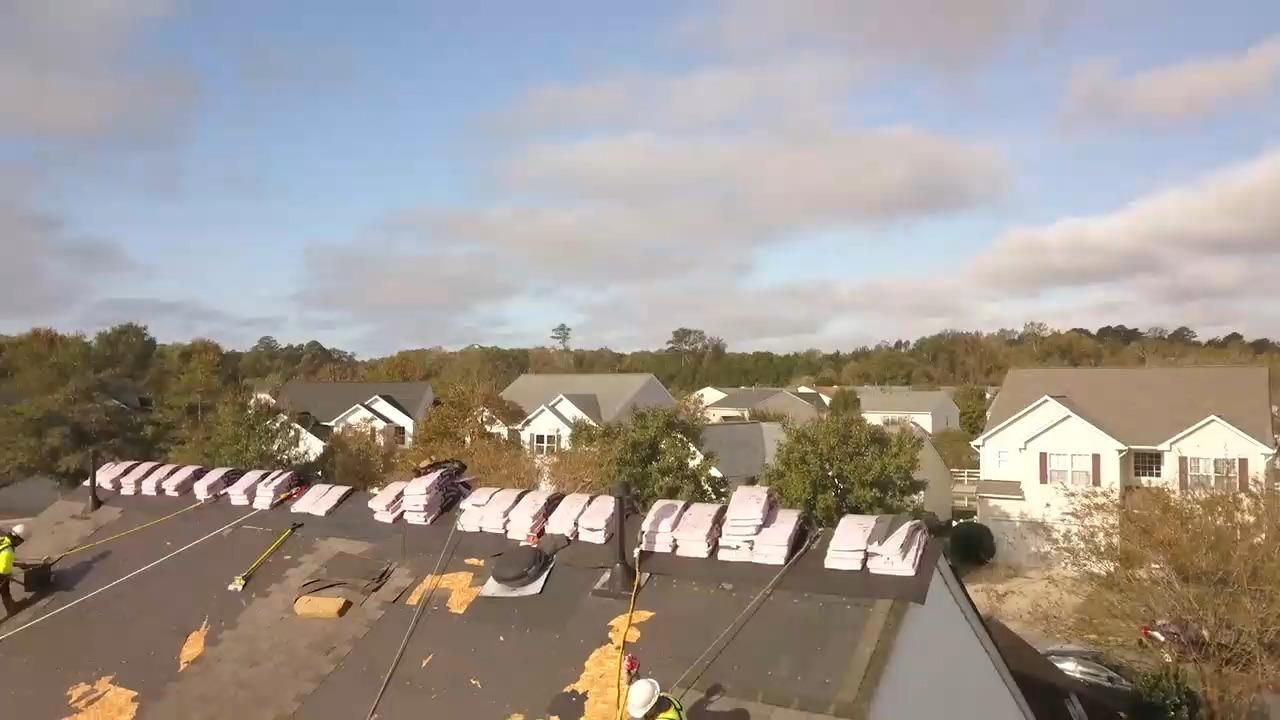Helmet: (12, 524, 32, 538)
Person: (0, 521, 37, 610)
Safety Vest: (0, 532, 13, 574)
